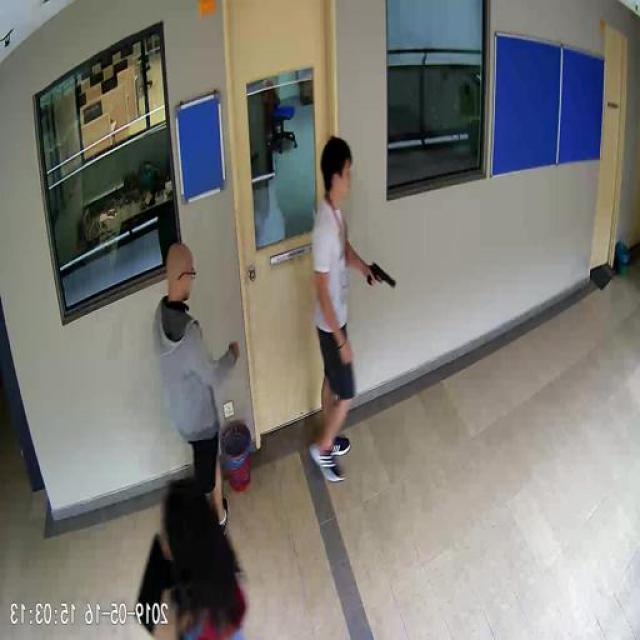Gun: (368, 262, 398, 286)
